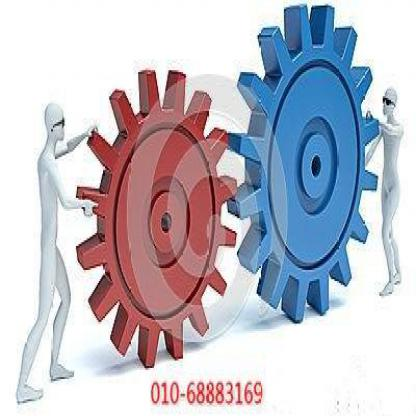FOD: (73, 66, 239, 370), (227, 3, 382, 328)
